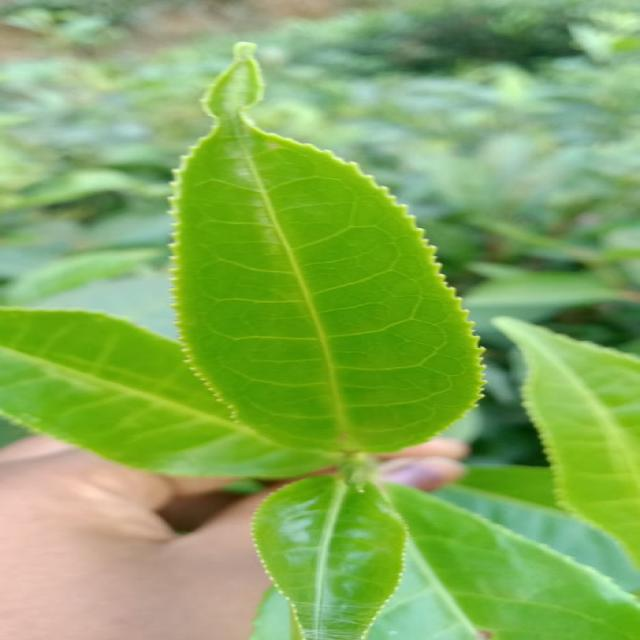Category B(2-4 days): (125, 29, 513, 466)
